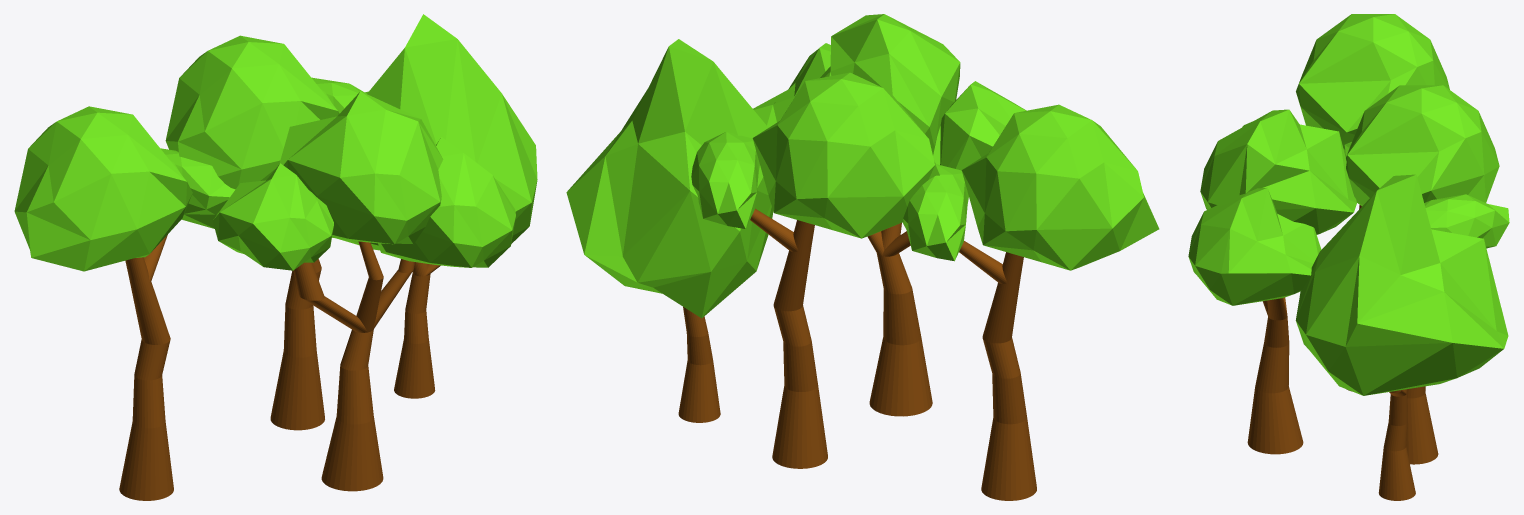
File: SM_Generic_Tree_Patch_01.fbx
The picture shows the model from 3 angles, left to right: view 1: azimuth 30°, elevation 25°; view 2: azimuth 150°, elevation 25°; view 3: azimuth 270°, elevation 25°; orthographic projection. The views are drawn at different scales.
Visible parts, largest first — view 1: Icosphere.006, Icosphere.003, Icosphere, Icosphere.002, Cylinder.002, Icosphere.004, Icosphere.005, Cylinder.003, Cylinder, Cylinder.001, Icosphere.007, Icosphere.001; view 2: Icosphere.002, Icosphere.006, Icosphere, Icosphere.003, Cylinder, Cylinder.003, Cylinder.002, Icosphere.001, Icosphere.005, Icosphere.007, Cylinder.001, Icosphere.004; view 3: Icosphere.002, Icosphere, Icosphere.003, Icosphere.006, Icosphere.004, Cylinder.002, Icosphere.001, Cylinder.001, Cylinder.
Part boxes in pixels (x1,y1,x2,y2): Icosphere.006: (14,106,192,271); Icosphere.003: (279,91,443,244); Icosphere: (165,35,339,189); Icosphere.002: (336,14,537,250); Cylinder.002: (293,241,414,491); Icosphere.004: (378,137,515,267); Icosphere.005: (213,163,333,270); Cylinder.003: (119,234,173,500); Cylinder: (270,259,324,430); Cylinder.001: (394,262,440,398); Icosphere.007: (160,148,235,228); Icosphere.001: (312,77,366,113); Icosphere.002: (566,39,773,318); Icosphere.006: (961,104,1159,270); Icosphere: (752,72,939,238); Icosphere.003: (820,14,960,149); Cylinder: (750,208,827,468); Cylinder.003: (959,241,1036,500); Cylinder.002: (867,223,932,416); Icosphere.001: (691,132,759,228); Icosphere.005: (931,81,1026,170); Icosphere.007: (902,164,968,261); Cylinder.001: (678,307,720,422); Icosphere.004: (753,43,830,127); Icosphere.002: (1295,174,1508,395); Icosphere: (1346,85,1499,205); Icosphere.003: (1200,109,1356,234); Icosphere.006: (1296,14,1449,157); Icosphere.004: (1188,187,1321,305); Cylinder.002: (1247,297,1303,454); Icosphere.001: (1424,194,1509,248); Cylinder.001: (1378,389,1415,500); Cylinder: (1406,386,1438,464).
Bounding box in the file's own units: 932 × 676 × 558.
